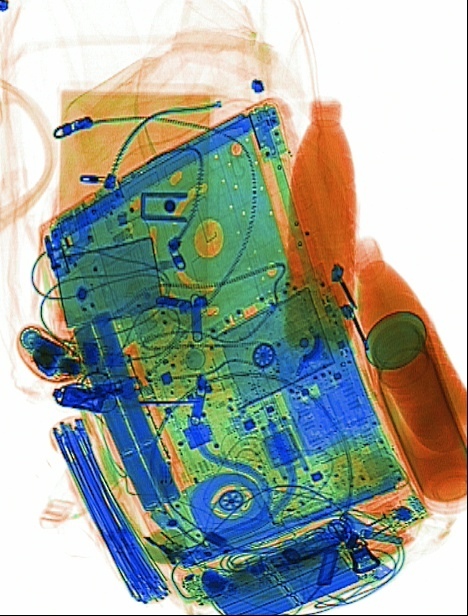powerbank: (190, 519, 364, 613)
